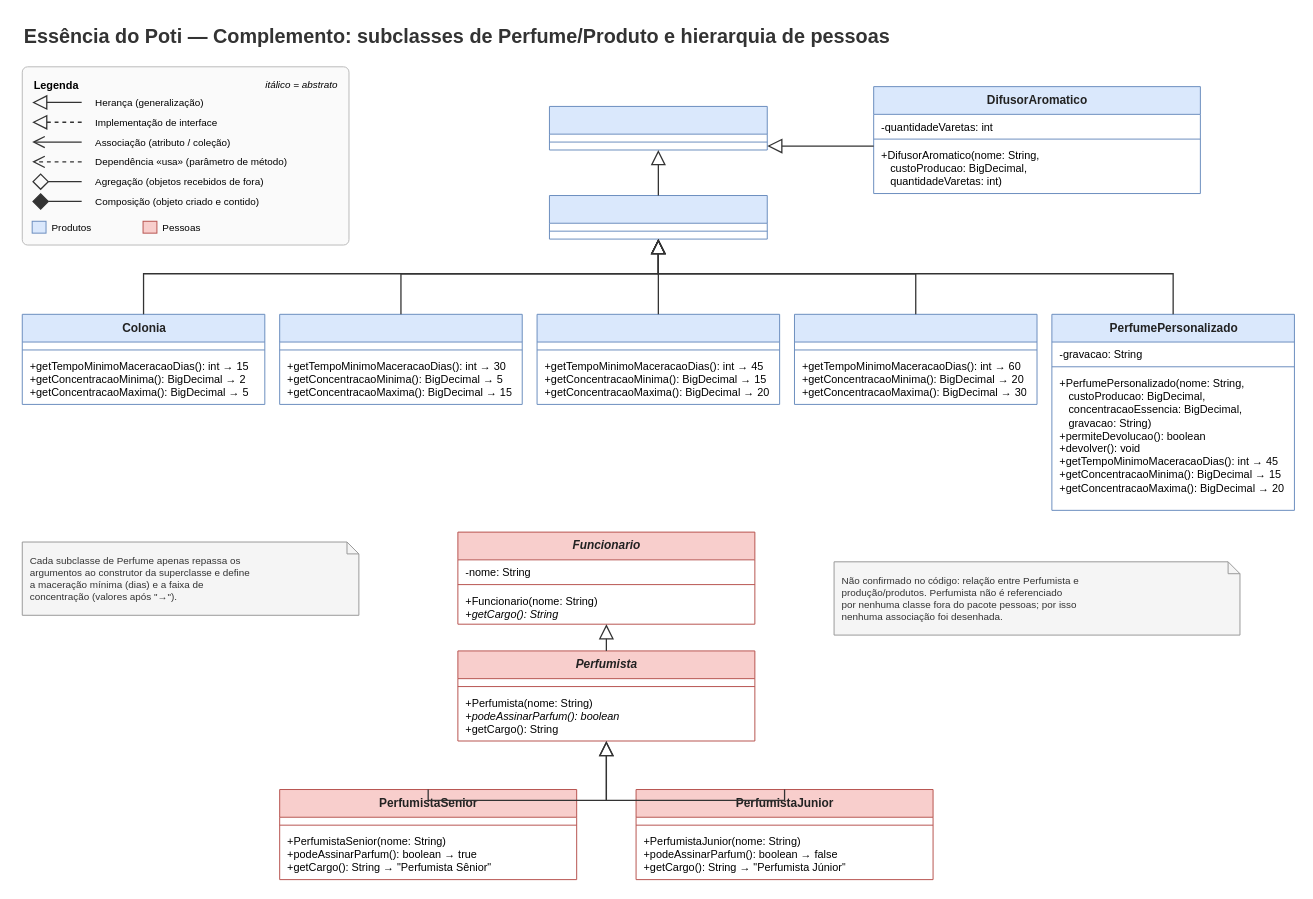
The diagram is 1313 pixels wide and 899 high, and some of its shapes have lost their labels. Each missing label, with the box of its shape:
EDP: (536, 313, 780, 404)
EDT: (279, 313, 522, 404)
Parfum: (793, 313, 1037, 404)
Perfume: (548, 195, 767, 239)
Produto: (548, 105, 767, 150)
